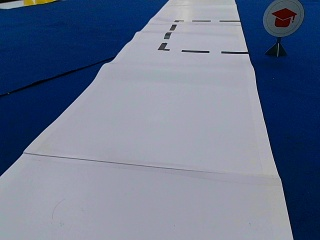school: (263, 1, 302, 36)
